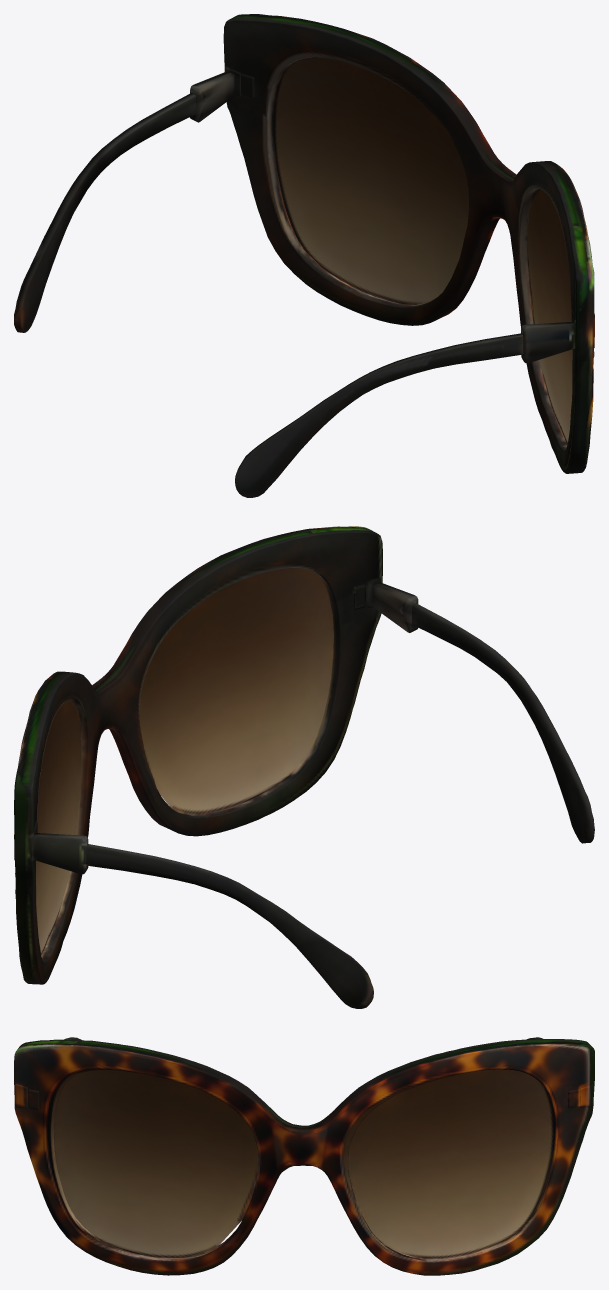
The model's file is oculos_tartaruga_marrom.glb.
3 renders of one model, top to bottom at view 1: azimuth 30°, elevation 25°; view 2: azimuth 150°, elevation 25°; view 3: azimuth 270°, elevation 25°, orthographic. The views are drawn at different scales.
Visible parts, largest first — view 1: oculos_tartaruga_marrom; view 2: oculos_tartaruga_marrom; view 3: oculos_tartaruga_marrom.
Boxes of the visible parts, x1,y1,x2,y2 form: oculos_tartaruga_marrom: [14, 14, 594, 497]; oculos_tartaruga_marrom: [14, 526, 594, 1008]; oculos_tartaruga_marrom: [14, 1037, 594, 1275].
Size of the model in its own units: 0.3008 by 0.1982 by 0.4731.
1 material, 1 textured.
